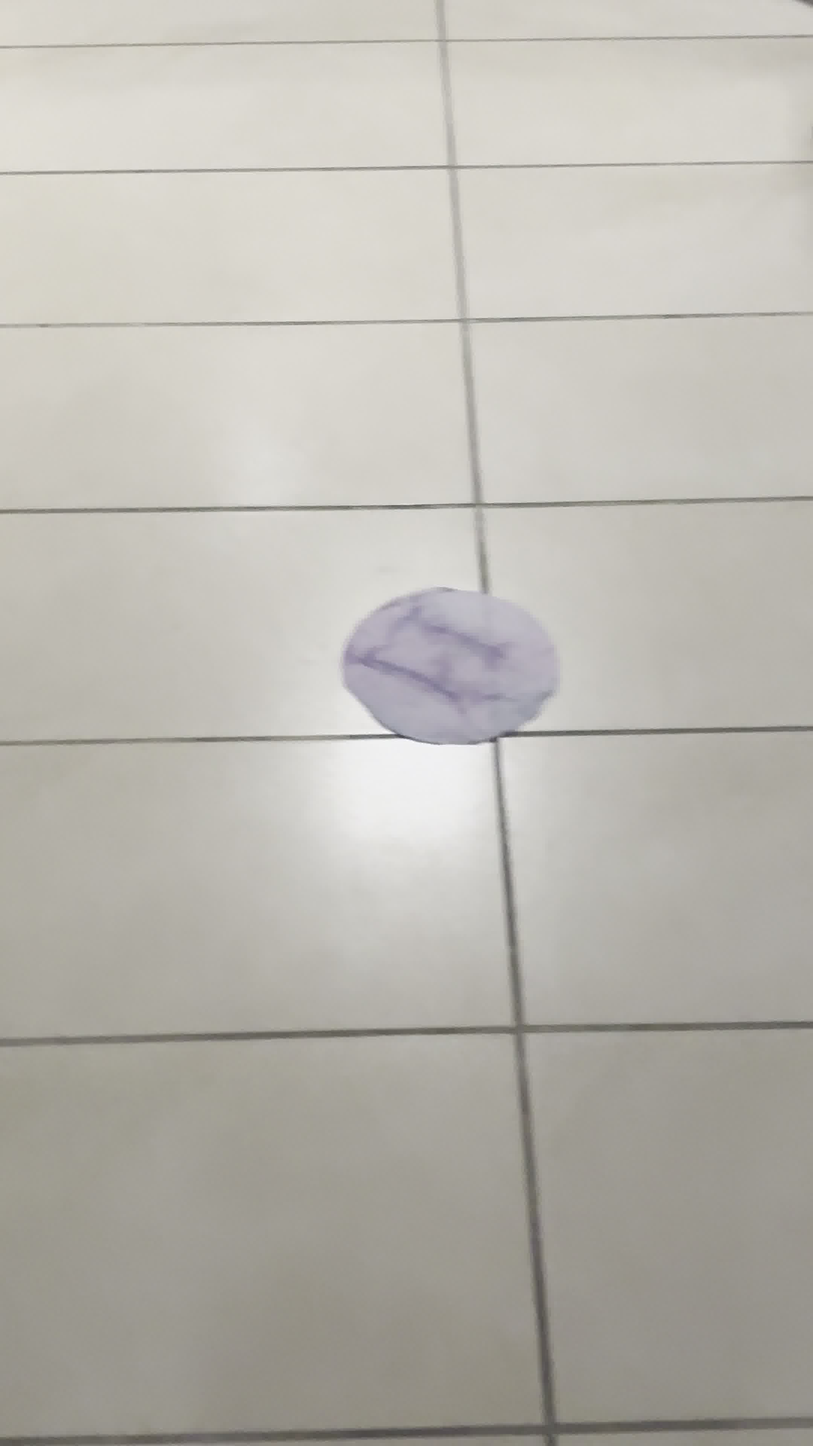Target: (338, 586, 556, 745)
